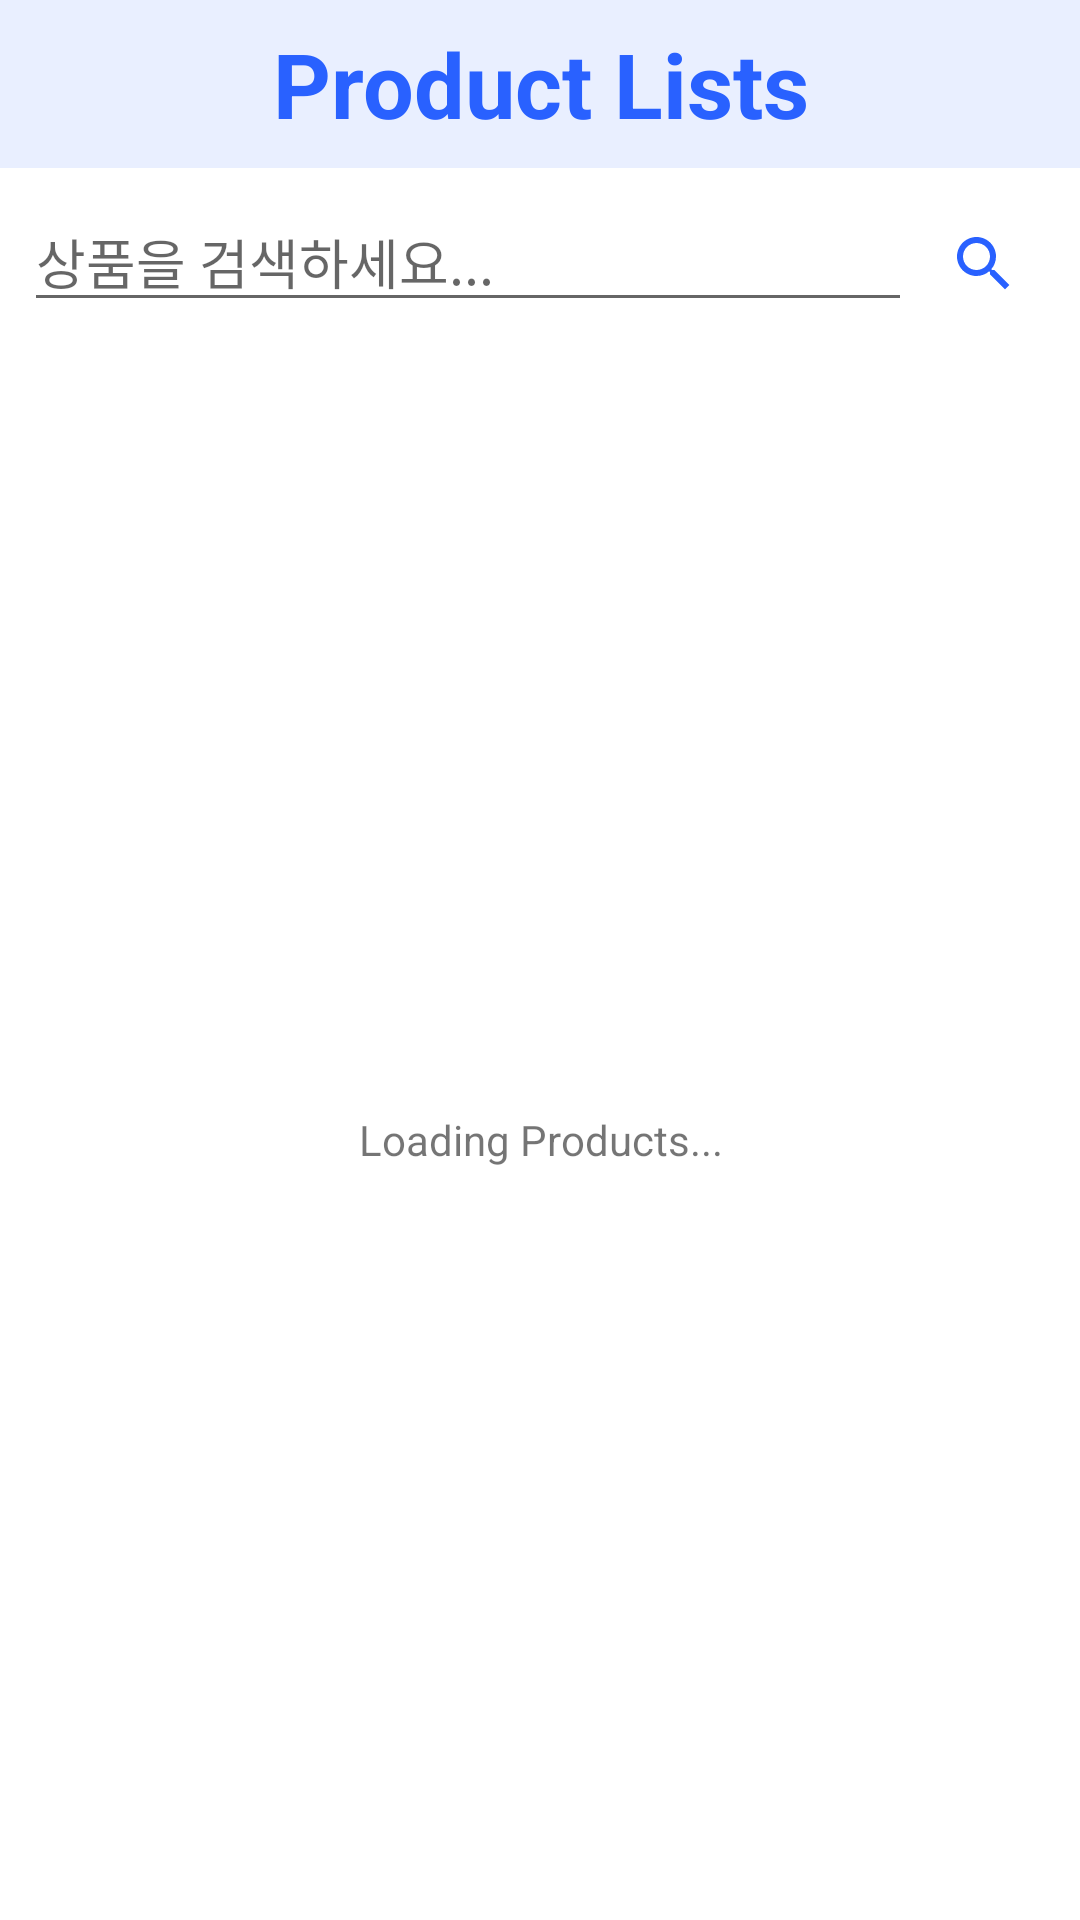

Icon click points for this 1080×1920 phone screenshot, format (x=x, y=y):
search: (x=983, y=263)
